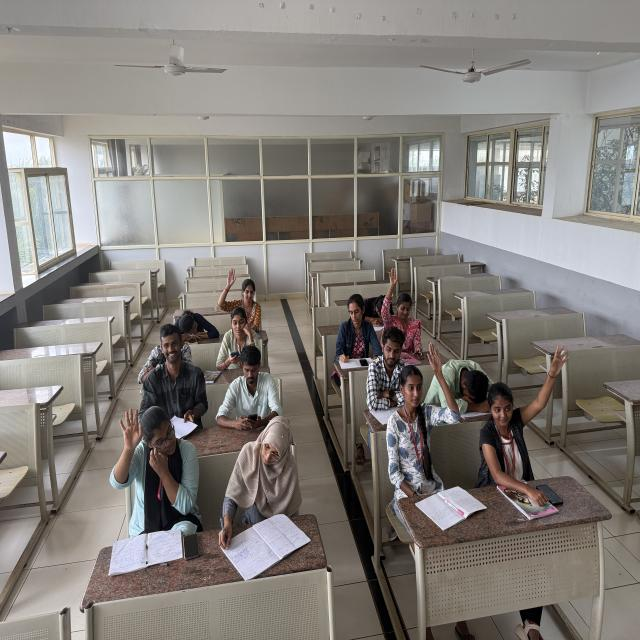Hand Rising: (484, 321, 576, 476), (382, 337, 462, 491), (114, 393, 195, 494), (212, 254, 272, 323), (384, 257, 427, 338)
Sleeping: (440, 324, 498, 424), (172, 286, 221, 349), (359, 274, 390, 327)
Using Phone: (222, 345, 283, 440), (214, 308, 258, 375)
Writing: (215, 420, 312, 560), (334, 278, 363, 376)
